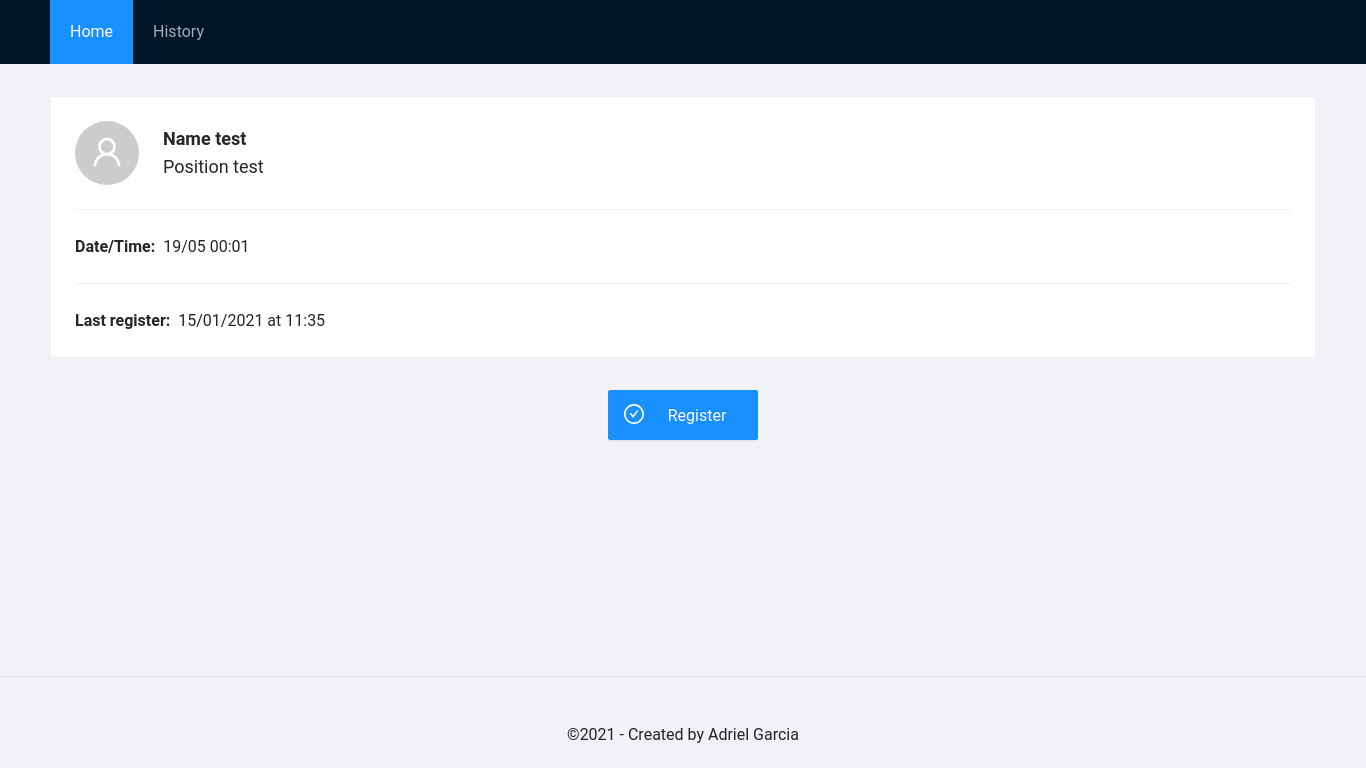
Home page › should show an error message when register fails
Expected: the text "Name test" is shown, [163,125,246,153]
Click the button "Register" at (683, 415), box [608,390,758,440]
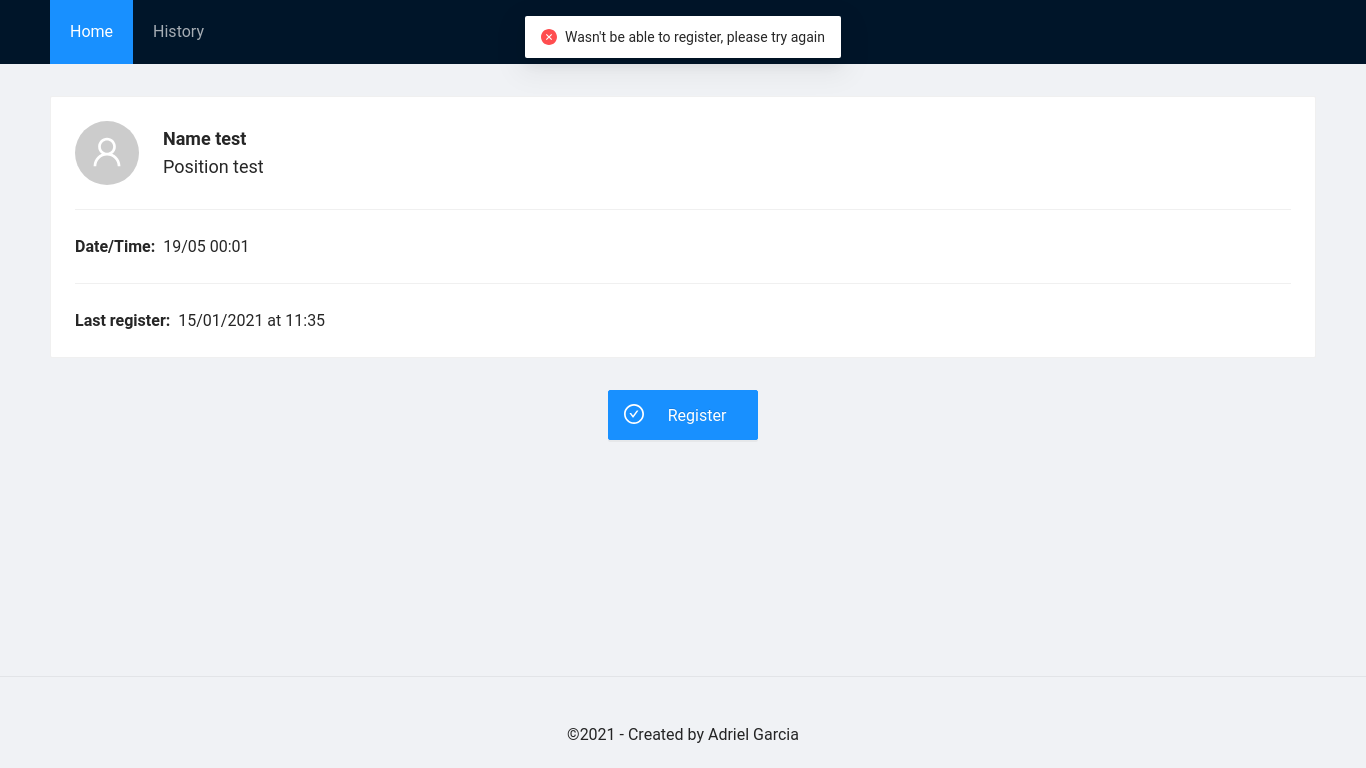
Expected: the text "Wasn't be able to register, please try again" is shown, [565,29,825,45]
